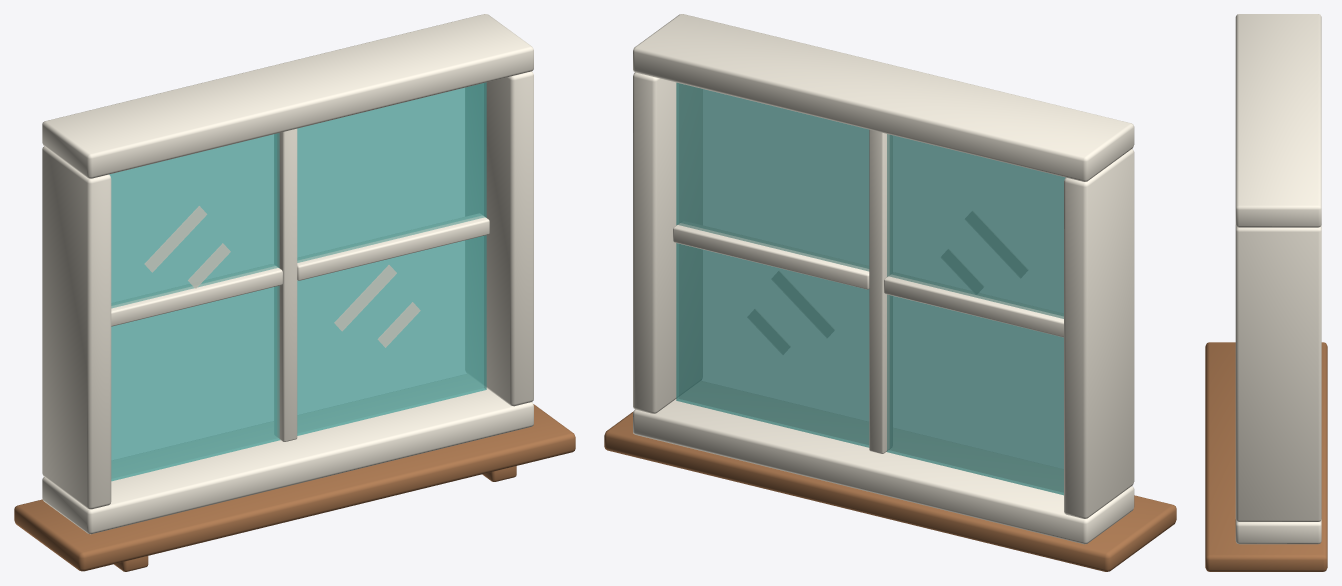
The model's file is window.glb.
The picture shows the model from 3 angles, left to right: view 1: azimuth 30°, elevation 25°; view 2: azimuth 150°, elevation 25°; view 3: azimuth 270°, elevation 25°; orthographic projection. The views are drawn at different scales.
Parts seen in each view (by area): view 1: ShellWindow_Frames, ShellWindow_Glass, ShellWindow_Sill, ShellWindow_GlassWaves; view 2: ShellWindow_Frames, ShellWindow_Glass, ShellWindow_Sill, ShellWindow_GlassWaves; view 3: ShellWindow_Frames, ShellWindow_Sill.
Part boxes in pixels (x1,y1,x2,y2): ShellWindow_Frames: (42, 14, 533, 534); ShellWindow_Glass: (109, 82, 486, 481); ShellWindow_Sill: (14, 404, 575, 571); ShellWindow_GlassWaves: (144, 206, 420, 347); ShellWindow_Frames: (633, 14, 1134, 544); ShellWindow_Glass: (676, 82, 1065, 495); ShellWindow_Sill: (604, 411, 1176, 571); ShellWindow_GlassWaves: (747, 211, 1027, 354); ShellWindow_Frames: (1235, 14, 1321, 544); ShellWindow_Sill: (1205, 342, 1327, 571).
Bounding box in the file's own units: 1.78 × 1.43 × 0.425.
